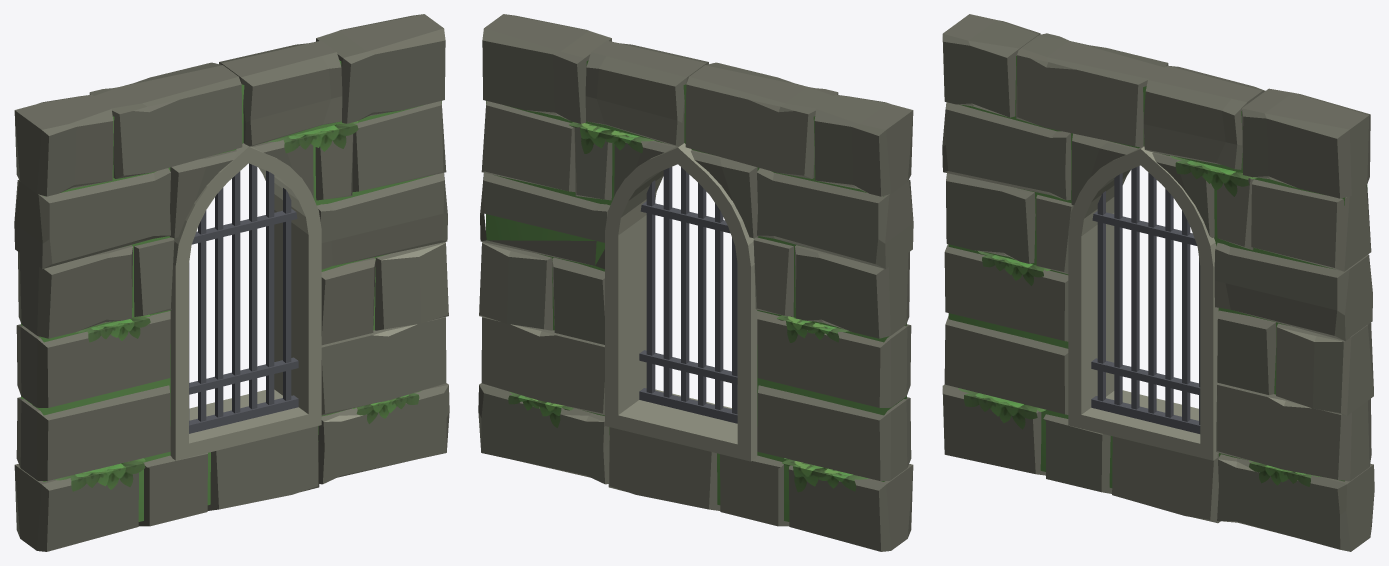
The model's file is quaternius-ultimate-modular-ruins-window-bars-overgrown.glb.
3 views of the same model, side by side, from view 1: azimuth 30°, elevation 25°; view 2: azimuth 150°, elevation 25°; view 3: azimuth 330°, elevation 25° (orthographic).
Visible parts, largest first — view 1: Window_Bars_Overgrown; view 2: Window_Bars_Overgrown; view 3: Window_Bars_Overgrown.
Part boxes in pixels (left/top/right/bottom): Window_Bars_Overgrown: left=14, top=14, right=449, bottom=551; Window_Bars_Overgrown: left=478, top=14, right=913, bottom=551; Window_Bars_Overgrown: left=942, top=14, right=1374, bottom=551.
Bounding box in the file's own units: 1.99 × 1.99 × 0.3052.
Materials: 5 (1 with a texture image).
